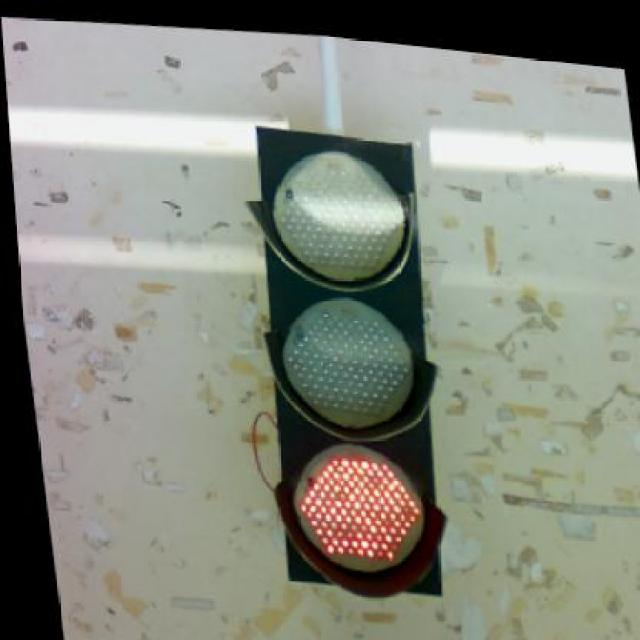red_light: (227, 111, 461, 598)
